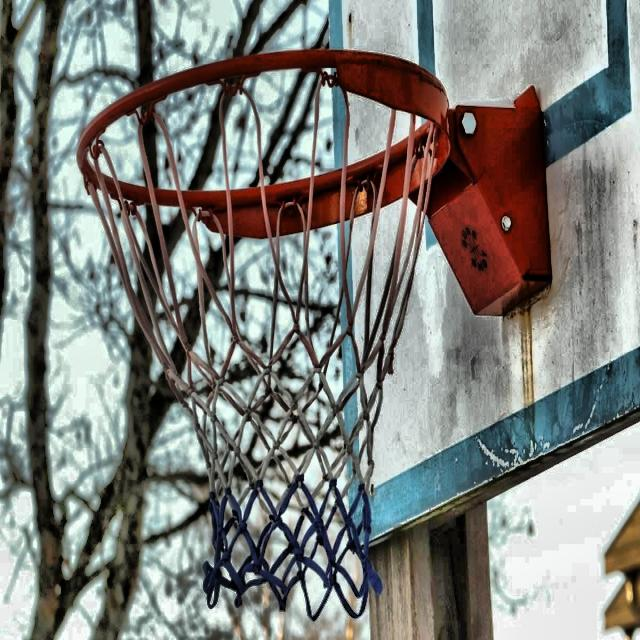rim: (77, 48, 457, 617)
